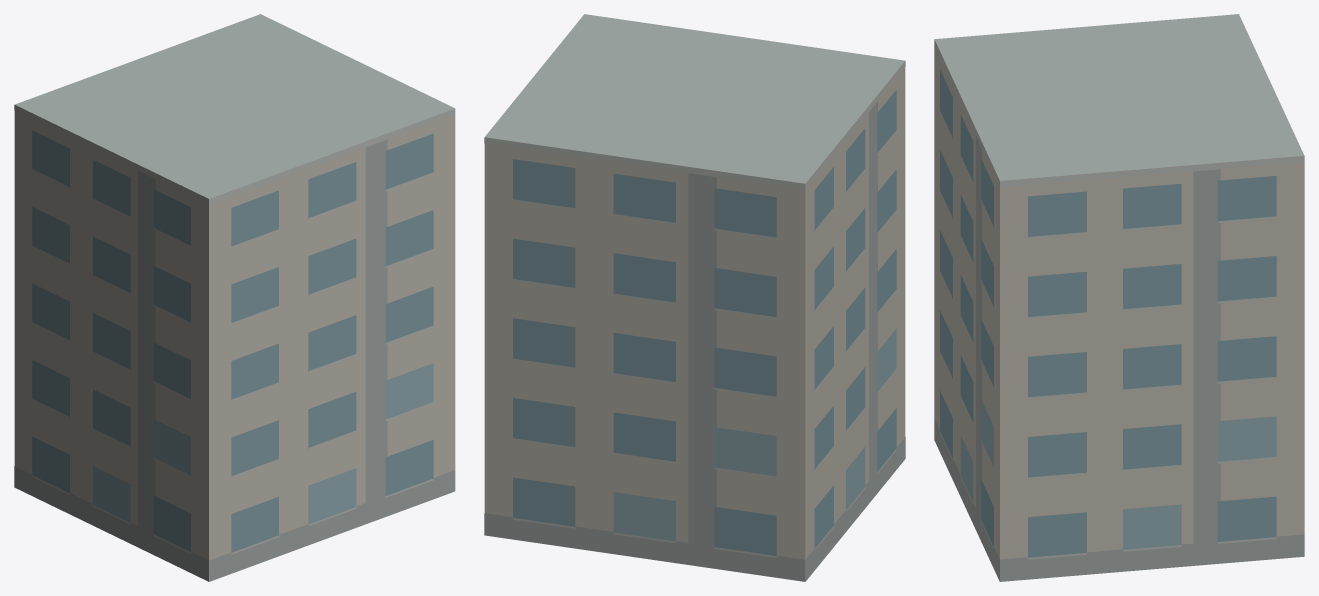
Rendered from residential-4953b32a-55d3-4151-a87b-8eead96e5325.glb.
The picture shows the model from 3 angles, left to right: view 1: azimuth 30°, elevation 25°; view 2: azimuth 150°, elevation 25°; view 3: azimuth 270°, elevation 25°; orthographic projection. The views are drawn at different scales.
Visible parts, largest first — view 1: residential-4953b32a-55d3-4151-a87b-8eead96e5325.tmp; view 2: residential-4953b32a-55d3-4151-a87b-8eead96e5325.tmp; view 3: residential-4953b32a-55d3-4151-a87b-8eead96e5325.tmp.
Part boxes in pixels (x1=…): residential-4953b32a-55d3-4151-a87b-8eead96e5325.tmp: x1=14, y1=14, x2=455, y2=581; residential-4953b32a-55d3-4151-a87b-8eead96e5325.tmp: x1=484, y1=14, x2=905, y2=581; residential-4953b32a-55d3-4151-a87b-8eead96e5325.tmp: x1=934, y1=14, x2=1304, y2=581.
Bounding box in the file's own units: 13.63 × 15.25 × 12.77.
